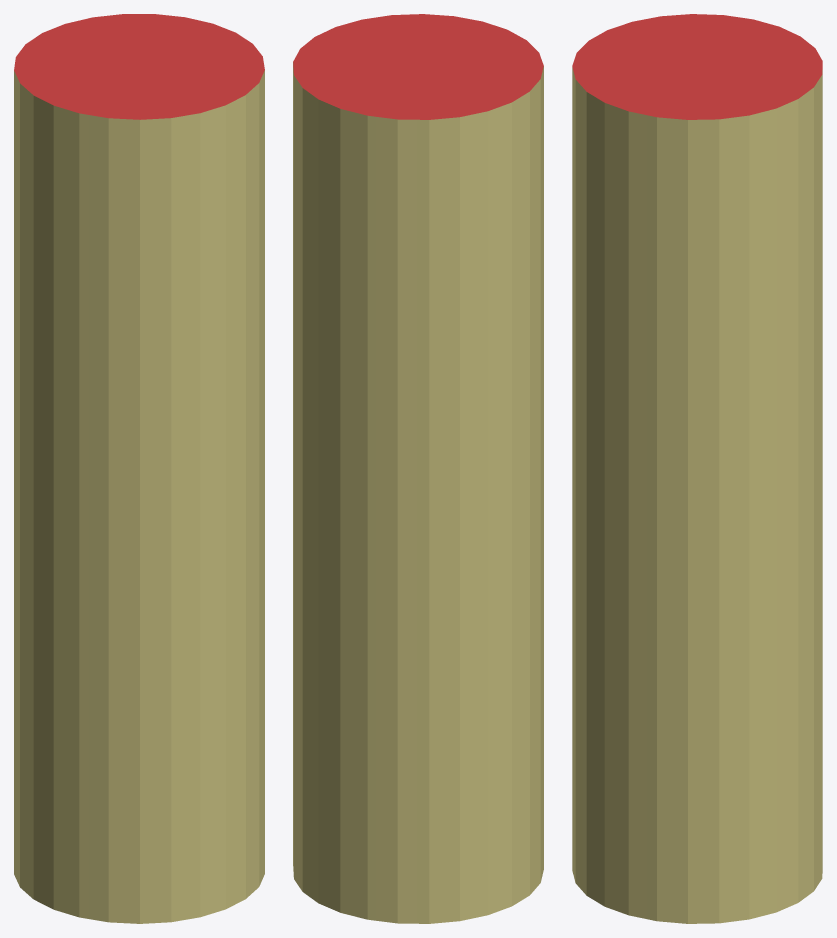
3 renders of one model, left to right at view 1: azimuth 30°, elevation 25°; view 2: azimuth 150°, elevation 25°; view 3: azimuth 270°, elevation 25°, orthographic.
Size of the model in its own units: 2.58 by 2.58 by 9.14.
